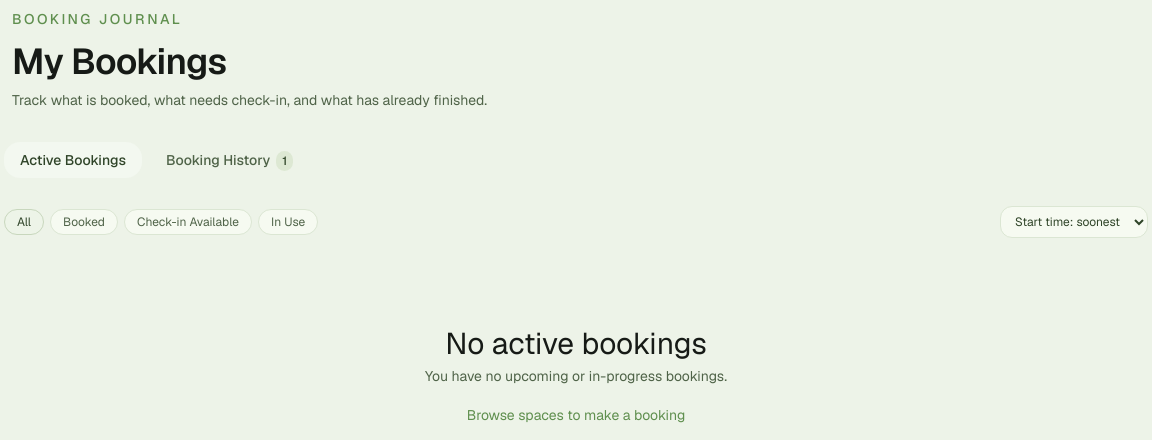
BookingsPage › can switch to Booking History tab
What coordinates should you click on to do the following:
click the button "Booking History1"
I would click on:
 (230, 160)
Its box is top-left (150, 142), bottom-right (309, 178).
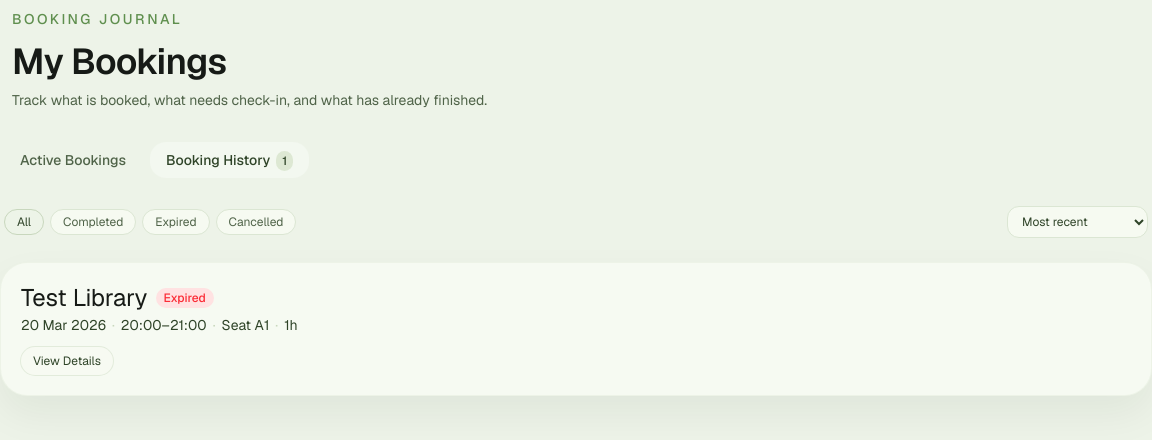
Result: the text "Test Library" is shown at top-left (21, 283), bottom-right (148, 313)
